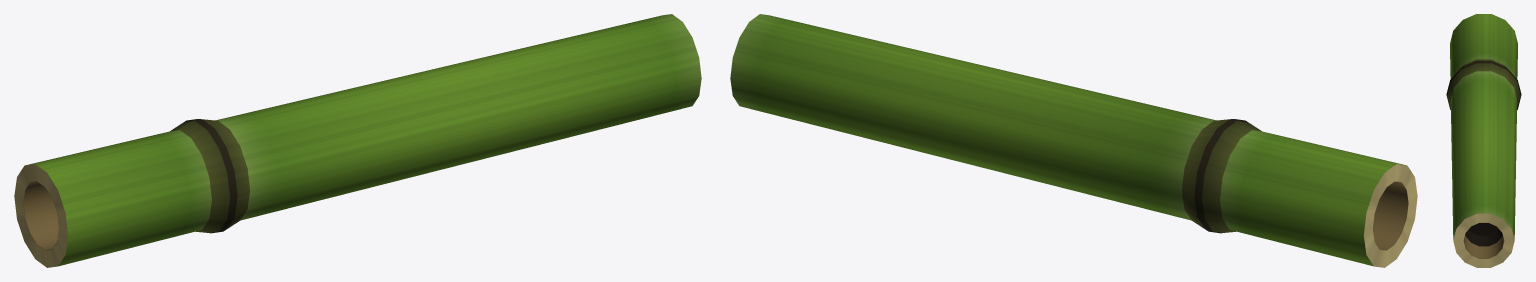
File: bamboo_short_unity.fbx
The picture shows the model from 3 angles, left to right: view 1: azimuth 30°, elevation 25°; view 2: azimuth 150°, elevation 25°; view 3: azimuth 270°, elevation 25°; orthographic projection. The views are drawn at different scales.
Visible parts, largest first — view 1: Bamboo_Short; view 2: Bamboo_Short; view 3: Bamboo_Short.
Part boxes in pixels (x1=…): Bamboo_Short: x1=14, y1=14, x2=701, y2=267; Bamboo_Short: x1=730, y1=14, x2=1417, y2=267; Bamboo_Short: x1=1446, y1=14, x2=1521, y2=267.
Bounding box in the file's own units: 0.3 × 0.0472 × 0.0484.
Materials: 1 (1 with a texture image).
